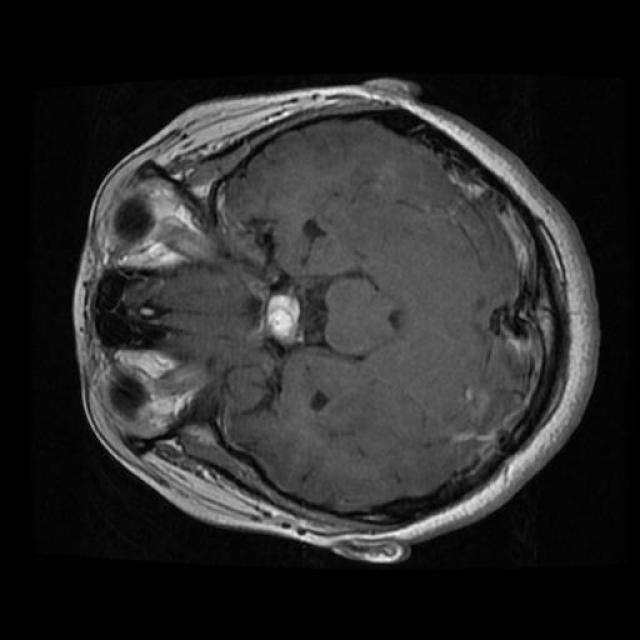Pituitary: (267, 294, 302, 346)
